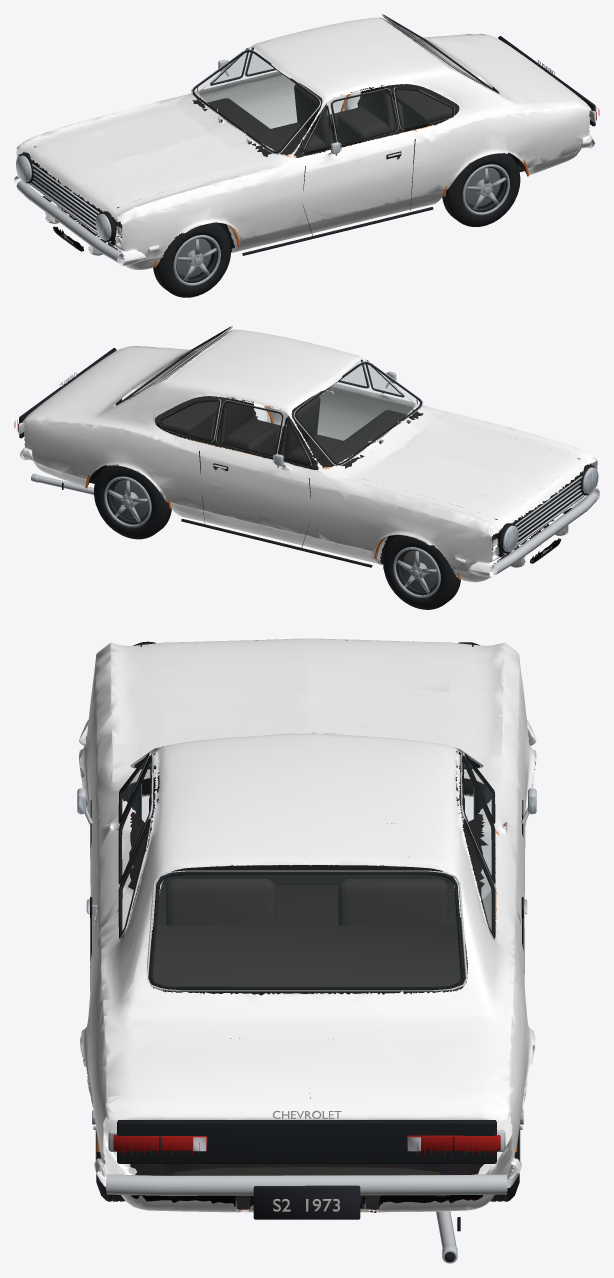
File: chevy-lod1.glb
The picture shows the model from 3 angles, top to bottom: view 1: azimuth 30°, elevation 25°; view 2: azimuth 150°, elevation 25°; view 3: azimuth 270°, elevation 25°; orthographic projection. The views are drawn at different scales.
Visible parts, largest first — view 1: chevy_Body_paint, chevy_Hood_paint, chevy_static_Vehicle_Glass, chevy_static_Vehicle_Rubber, chevy_CabinSeats_Vehicle_Interior, chevy_static_Vehicle_Chrome, chevy_static_Vehicle_Interior, chevy_Wheel_rearRight_RadialTire, chevy_Wheel_frontRight_RadialTire, chevy_wheel_frontRight_Vehicle_WheelMetal, chevy_wheel_rearRight_Vehicle_WheelMetal, chevy_Body_trim (+4 smaller); view 2: chevy_Body_paint, chevy_Hood_paint, chevy_static_Vehicle_Glass, chevy_static_Vehicle_Rubber, chevy_CabinSeats_Vehicle_Interior, chevy_static_Vehicle_Chrome, chevy_static_Vehicle_Interior, chevy_Wheel_rearLeft_RadialTire, chevy_Wheel_frontLeft_RadialTire, chevy_wheel_frontLeft_Vehicle_WheelMetal, chevy_wheel_rearLeft_Vehicle_WheelMetal, chevy_Body_trim (+4 smaller); view 3: chevy_Body_paint, chevy_static_Vehicle_Glass, chevy_Hood_paint, chevy_static_Vehicle_Interior, chevy_static_Vehicle_SatinStripe, chevy_static_Vehicle_Chrome, chevy_CabinSeats_Vehicle_Interior, chevy_static_Vehicle_Rubber, chevy_Body_trim, chevy_Plate, chevy_static_Vehicle_BrakeLens.
Part boxes in pixels (bbox=[...]): chevy_Body_paint: bbox=[14, 17, 591, 269]; chevy_Hood_paint: bbox=[32, 101, 267, 209]; chevy_static_Vehicle_Glass: bbox=[194, 25, 483, 151]; chevy_static_Vehicle_Rubber: bbox=[19, 14, 498, 255]; chevy_CabinSeats_Vehicle_Interior: bbox=[271, 83, 434, 159]; chevy_static_Vehicle_Chrome: bbox=[16, 14, 596, 262]; chevy_static_Vehicle_Interior: bbox=[117, 84, 524, 238]; chevy_Wheel_rearRight_RadialTire: bbox=[442, 153, 520, 226]; chevy_Wheel_frontRight_RadialTire: bbox=[153, 222, 231, 297]; chevy_wheel_frontRight_Vehicle_WheelMetal: bbox=[173, 235, 220, 285]; chevy_wheel_rearRight_Vehicle_WheelMetal: bbox=[462, 164, 509, 215]; chevy_Body_trim: bbox=[45, 71, 526, 254]; chevy_Body_paint: bbox=[22, 329, 599, 582]; chevy_Hood_paint: bbox=[346, 413, 581, 521]; chevy_static_Vehicle_Glass: bbox=[131, 335, 419, 463]; chevy_static_Vehicle_Rubber: bbox=[62, 326, 595, 567]; chevy_CabinSeats_Vehicle_Interior: bbox=[179, 395, 343, 469]; chevy_static_Vehicle_Chrome: bbox=[18, 326, 597, 574]; chevy_static_Vehicle_Interior: bbox=[90, 396, 497, 550]; chevy_Wheel_rearLeft_RadialTire: bbox=[94, 465, 171, 539]; chevy_Wheel_frontLeft_RadialTire: bbox=[383, 535, 460, 609]; chevy_wheel_frontLeft_Vehicle_WheelMetal: bbox=[393, 547, 440, 597]; chevy_wheel_rearLeft_Vehicle_WheelMetal: bbox=[104, 476, 151, 527]; chevy_Body_trim: bbox=[88, 388, 567, 566]; chevy_Body_paint: bbox=[79, 638, 536, 1212]; chevy_static_Vehicle_Glass: bbox=[121, 754, 492, 986]; chevy_Hood_paint: bbox=[141, 639, 472, 772]; chevy_static_Vehicle_Interior: bbox=[148, 772, 468, 1198]; chevy_static_Vehicle_SatinStripe: bbox=[117, 1120, 496, 1163]; chevy_static_Vehicle_Chrome: bbox=[85, 747, 528, 1247]; chevy_CabinSeats_Vehicle_Interior: bbox=[165, 878, 448, 1038]; chevy_static_Vehicle_Rubber: bbox=[90, 641, 523, 1261]; chevy_Body_trim: bbox=[108, 777, 506, 1212]; chevy_Plate: bbox=[253, 1185, 360, 1219]; chevy_static_Vehicle_BrakeLens: bbox=[113, 1135, 500, 1155].
Bounding box in the file's own units: 1.91 × 0.5922 × 0.771.
16 materials, 1 textured.
